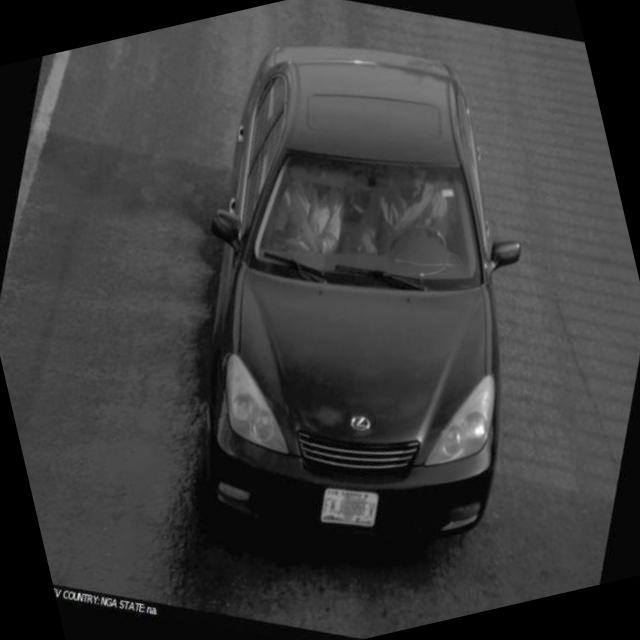person_with_seatbelt: (344, 156, 487, 287)
